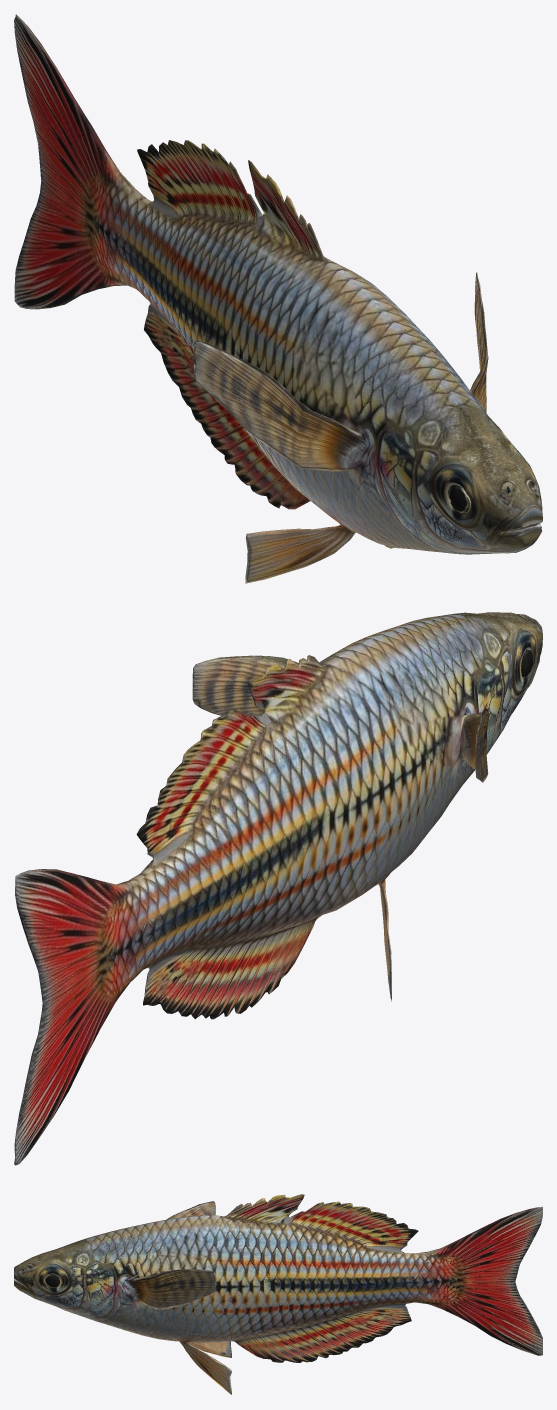
Rendered from bedotia.glb.
3 views of the same model, one above another, from view 1: azimuth 30°, elevation 25°; view 2: azimuth 150°, elevation 25°; view 3: azimuth 270°, elevation 25° (orthographic). The views are drawn at different scales.
Size of the model in its own units: 0.0304 by 0.0366 by 0.096.
1 material, 1 textured.
